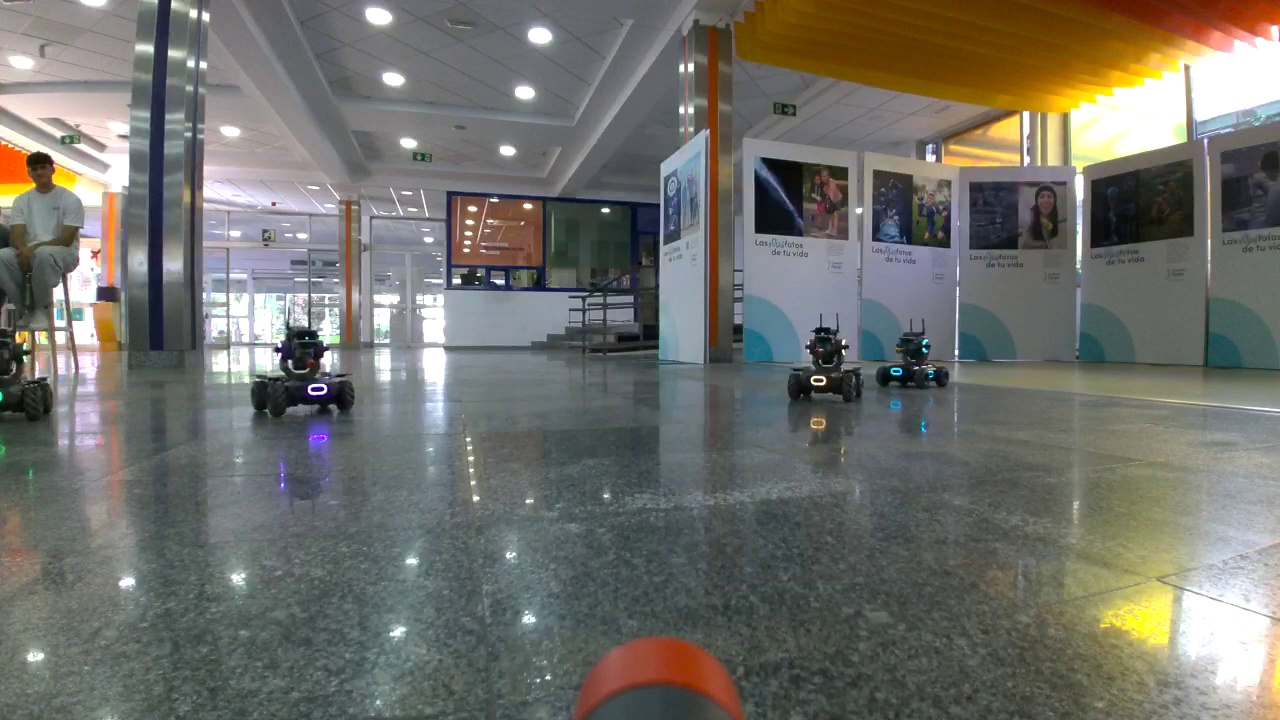robot: (251, 306, 353, 418), (788, 314, 868, 403), (875, 317, 954, 391), (1, 319, 55, 419)
